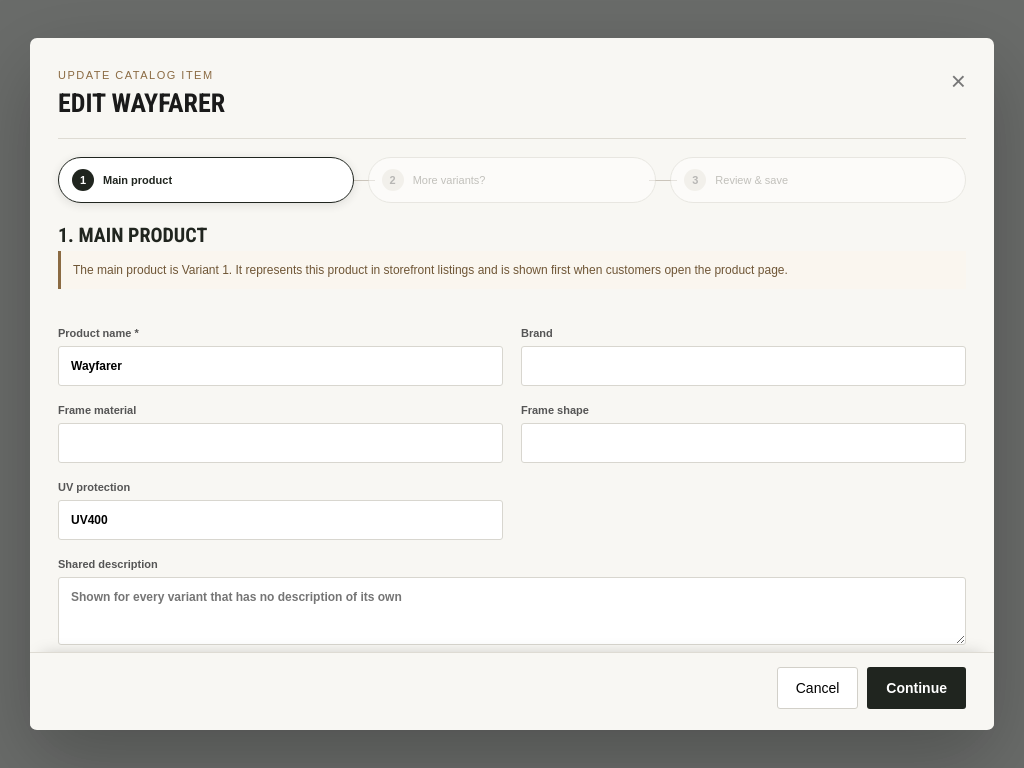
it: a stale-version conflict surfaces the server's refresh message instead of saving silently
Click the button "Continue".
click(917, 689)  # box top-left (867, 668), bottom-right (966, 710)
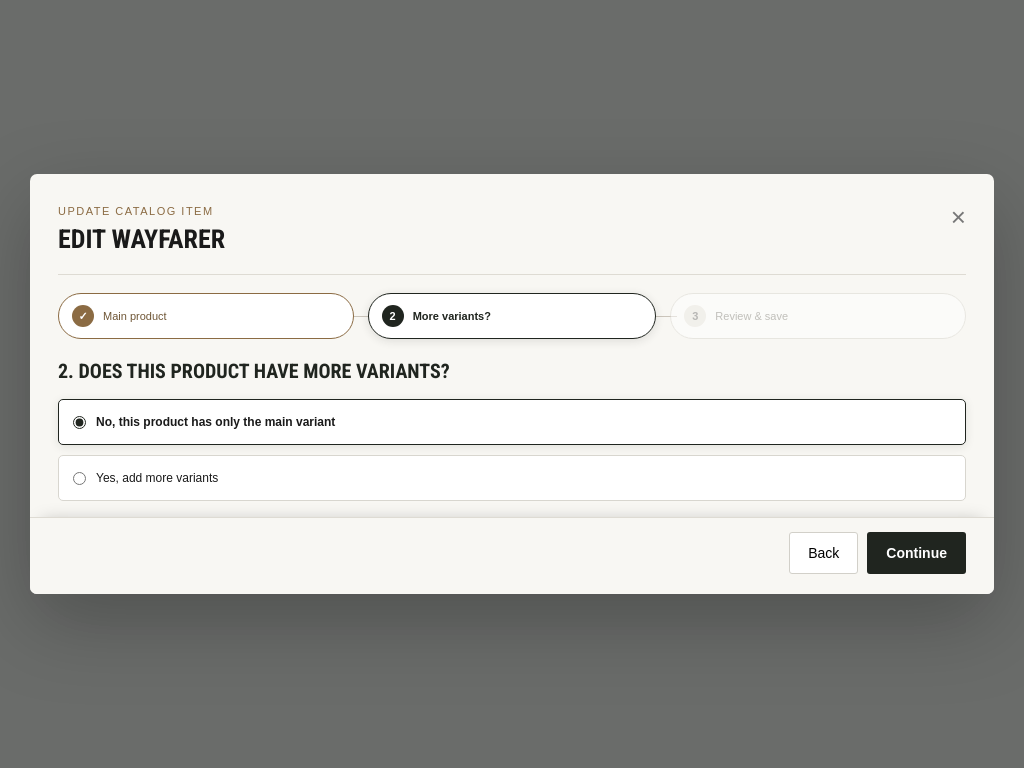
Click the button "Continue".
click(917, 553)  # box top-left (867, 532), bottom-right (966, 574)
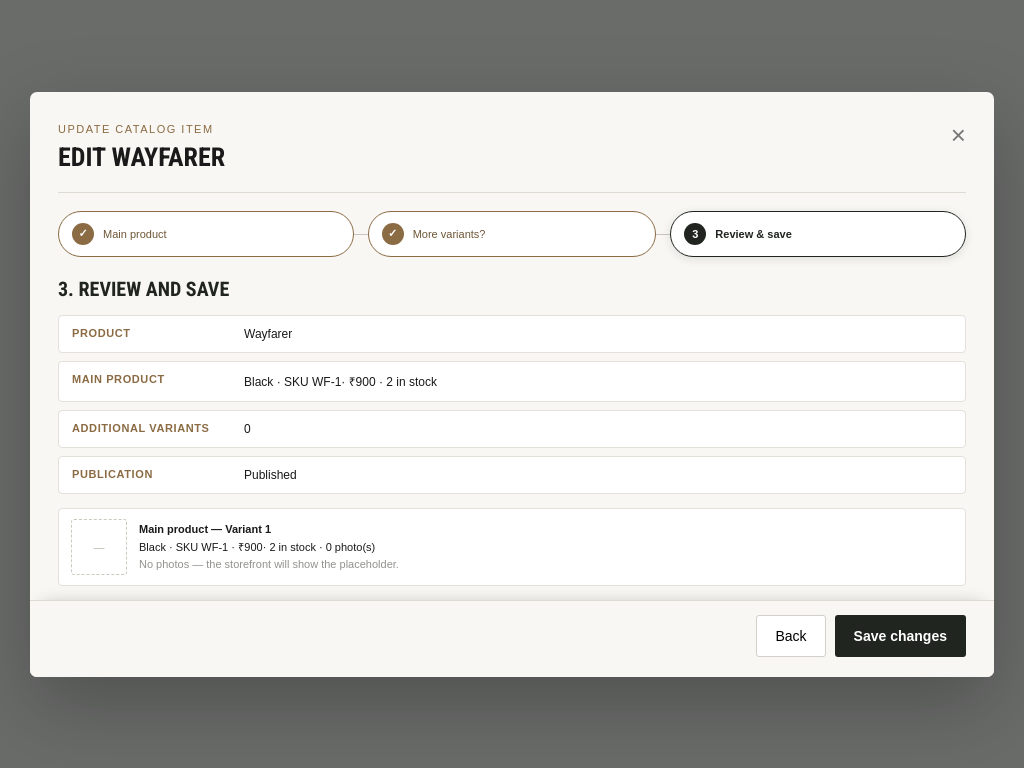
Click the button "Save changes".
click(900, 636)  # box top-left (835, 614), bottom-right (966, 656)
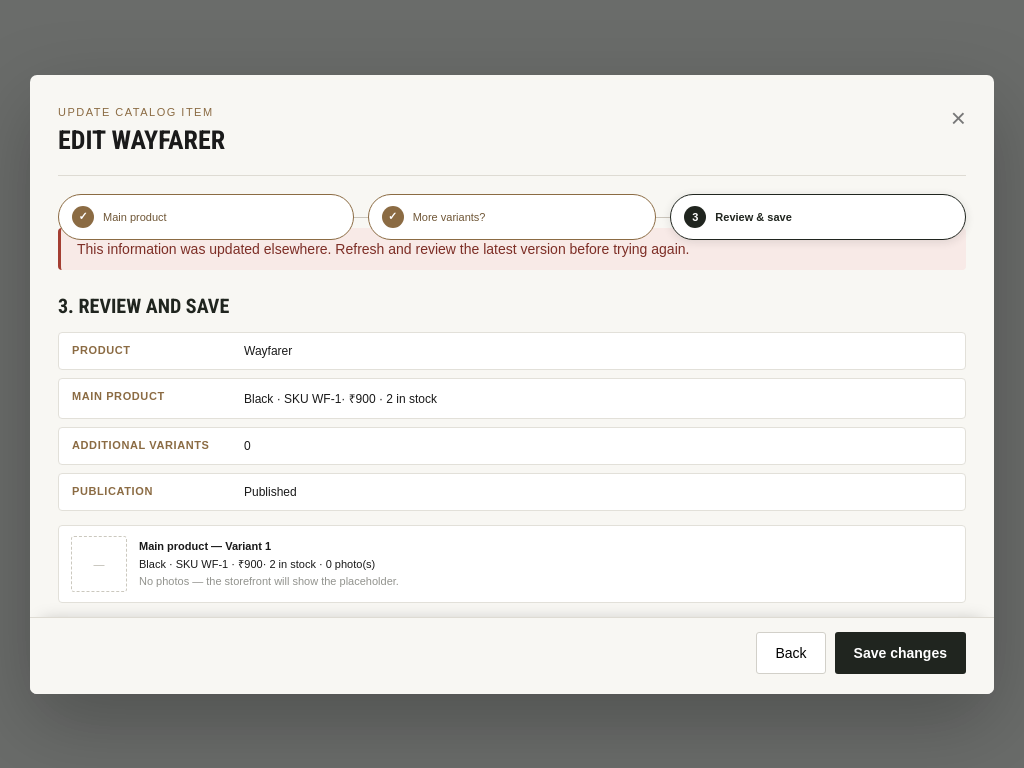
Result: the text "updated elsewhere" is shown at top-left (77, 240), bottom-right (690, 256)
